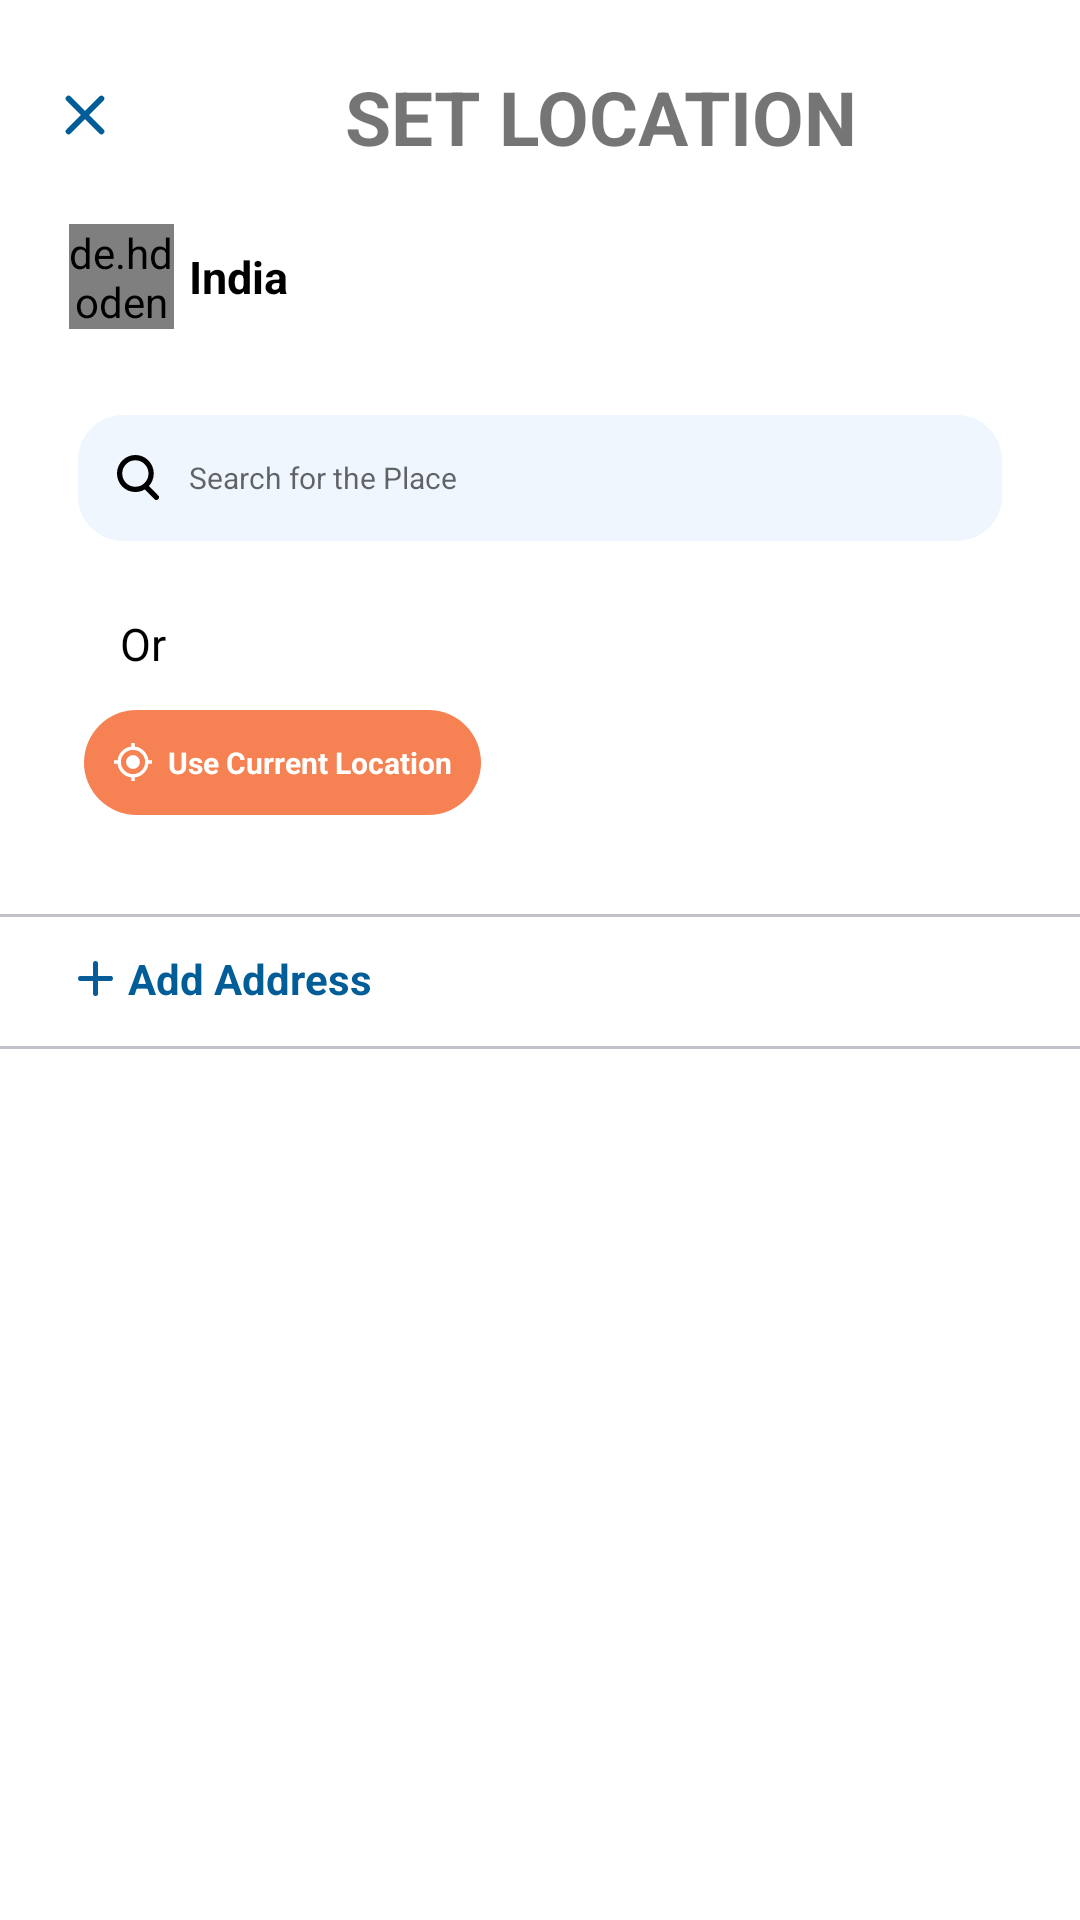

Named icons in this screenshot (1080px x 1920px) and their bounding boxes, detection(x1, y1, x2, y2):
close: detection(65, 95, 105, 135)
